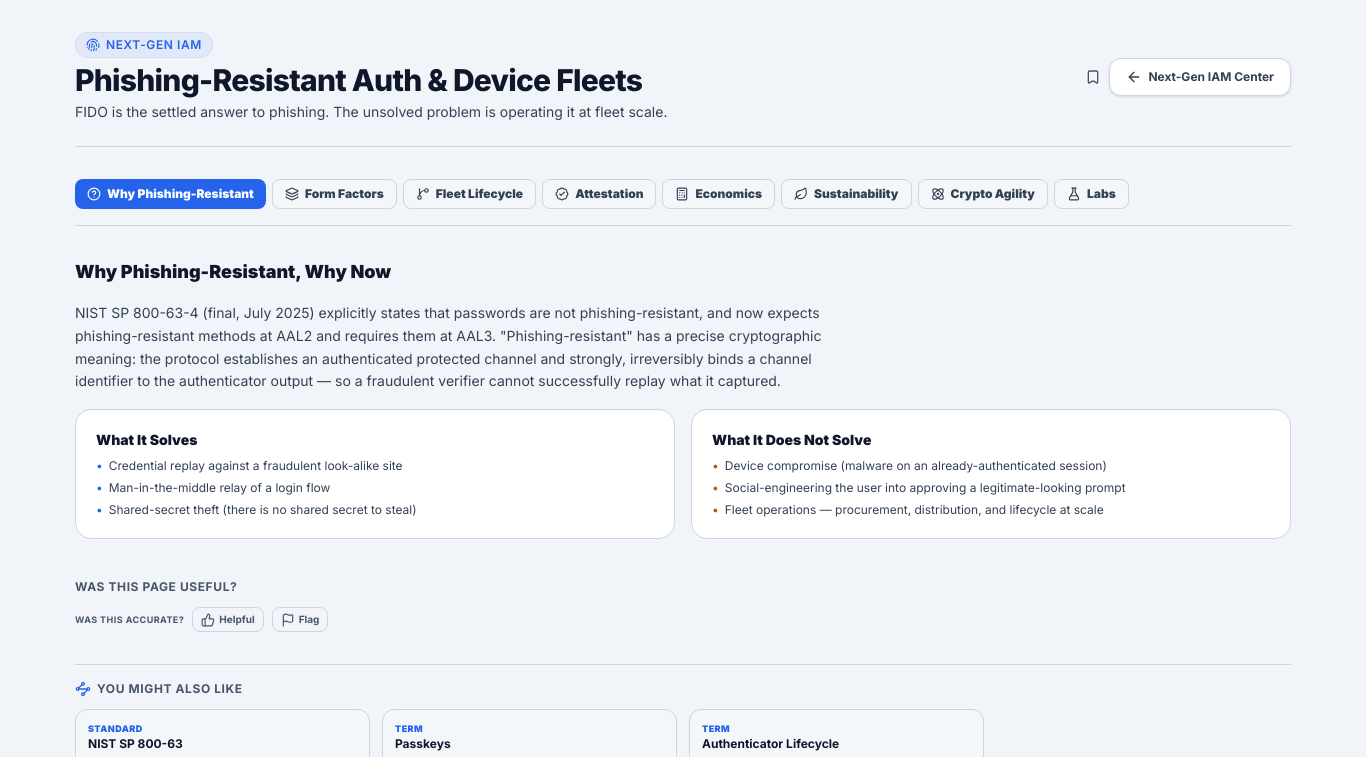
Test: PhishingResistantAuthCenter page › shows sustainability notes for every form factor
Click the button "Sustainability". click: (846, 194)
box: [781,179,912,209]
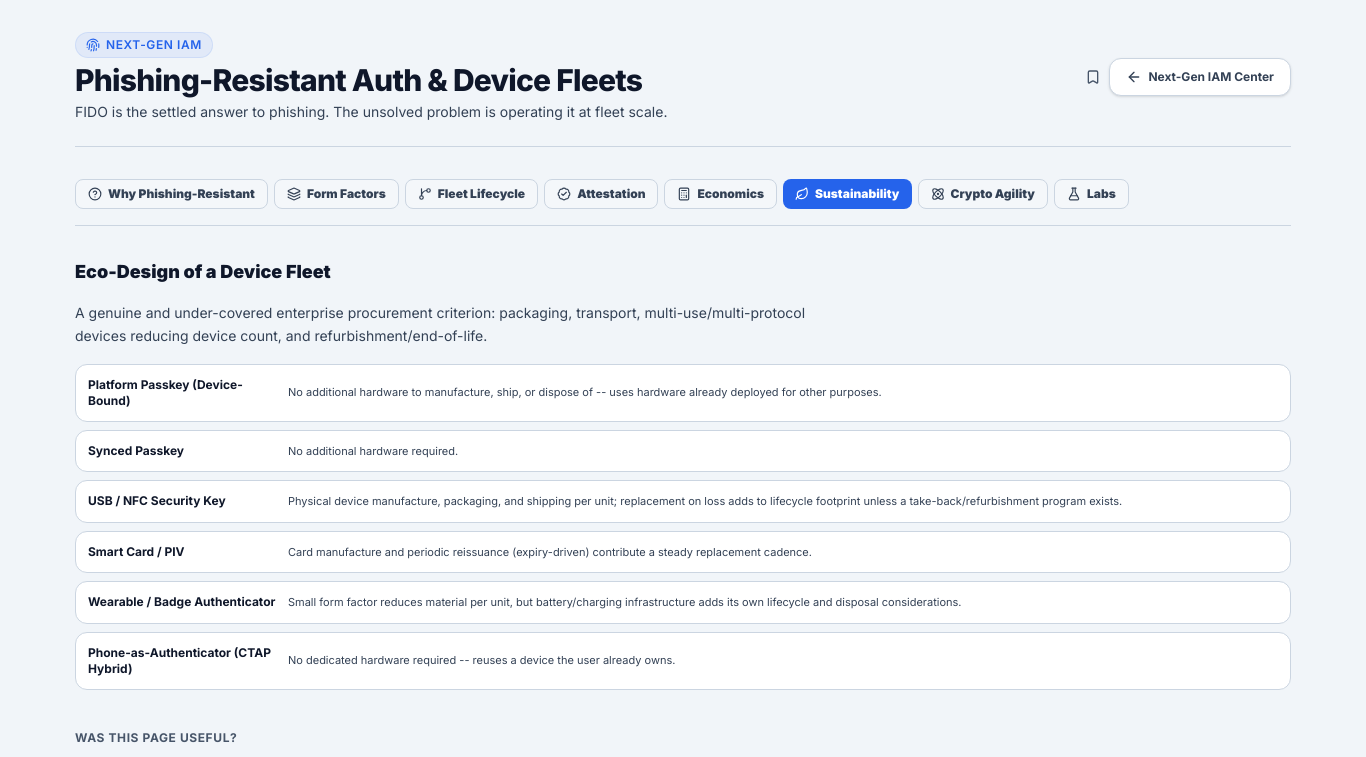
expect the text "Platform Passkey (Device-Bound)" is shown: met, box [88,376,243,408]
expect the text "Synced Passkey" is shown: met, box [88,443,184,458]
expect the text "USB / NFC Security Key" is shown: met, box [88,493,226,508]
